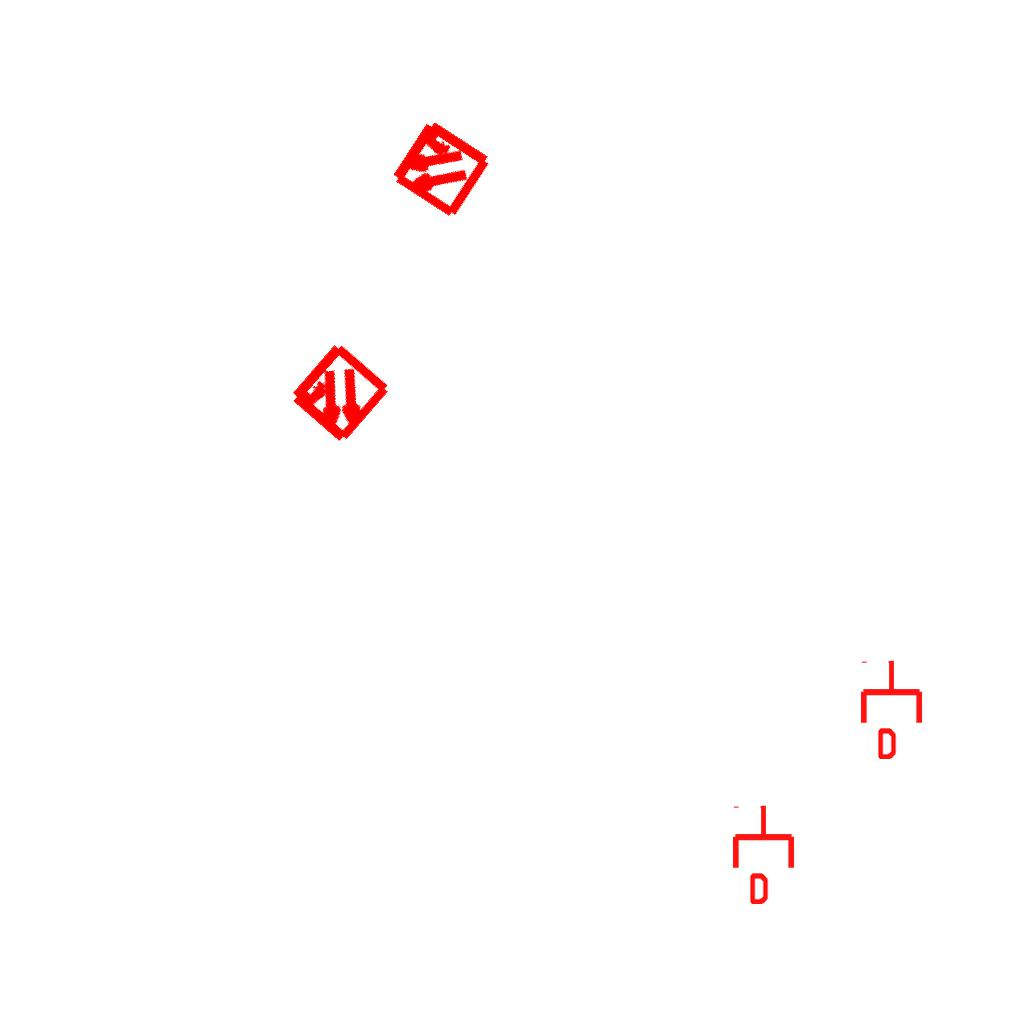Datenanschluss_einfach: (857, 659, 926, 759), (729, 804, 798, 904)
OT_Multisensormelder_(Kombination_RMO_WMD): (258, 314, 419, 475), (361, 89, 518, 246)
